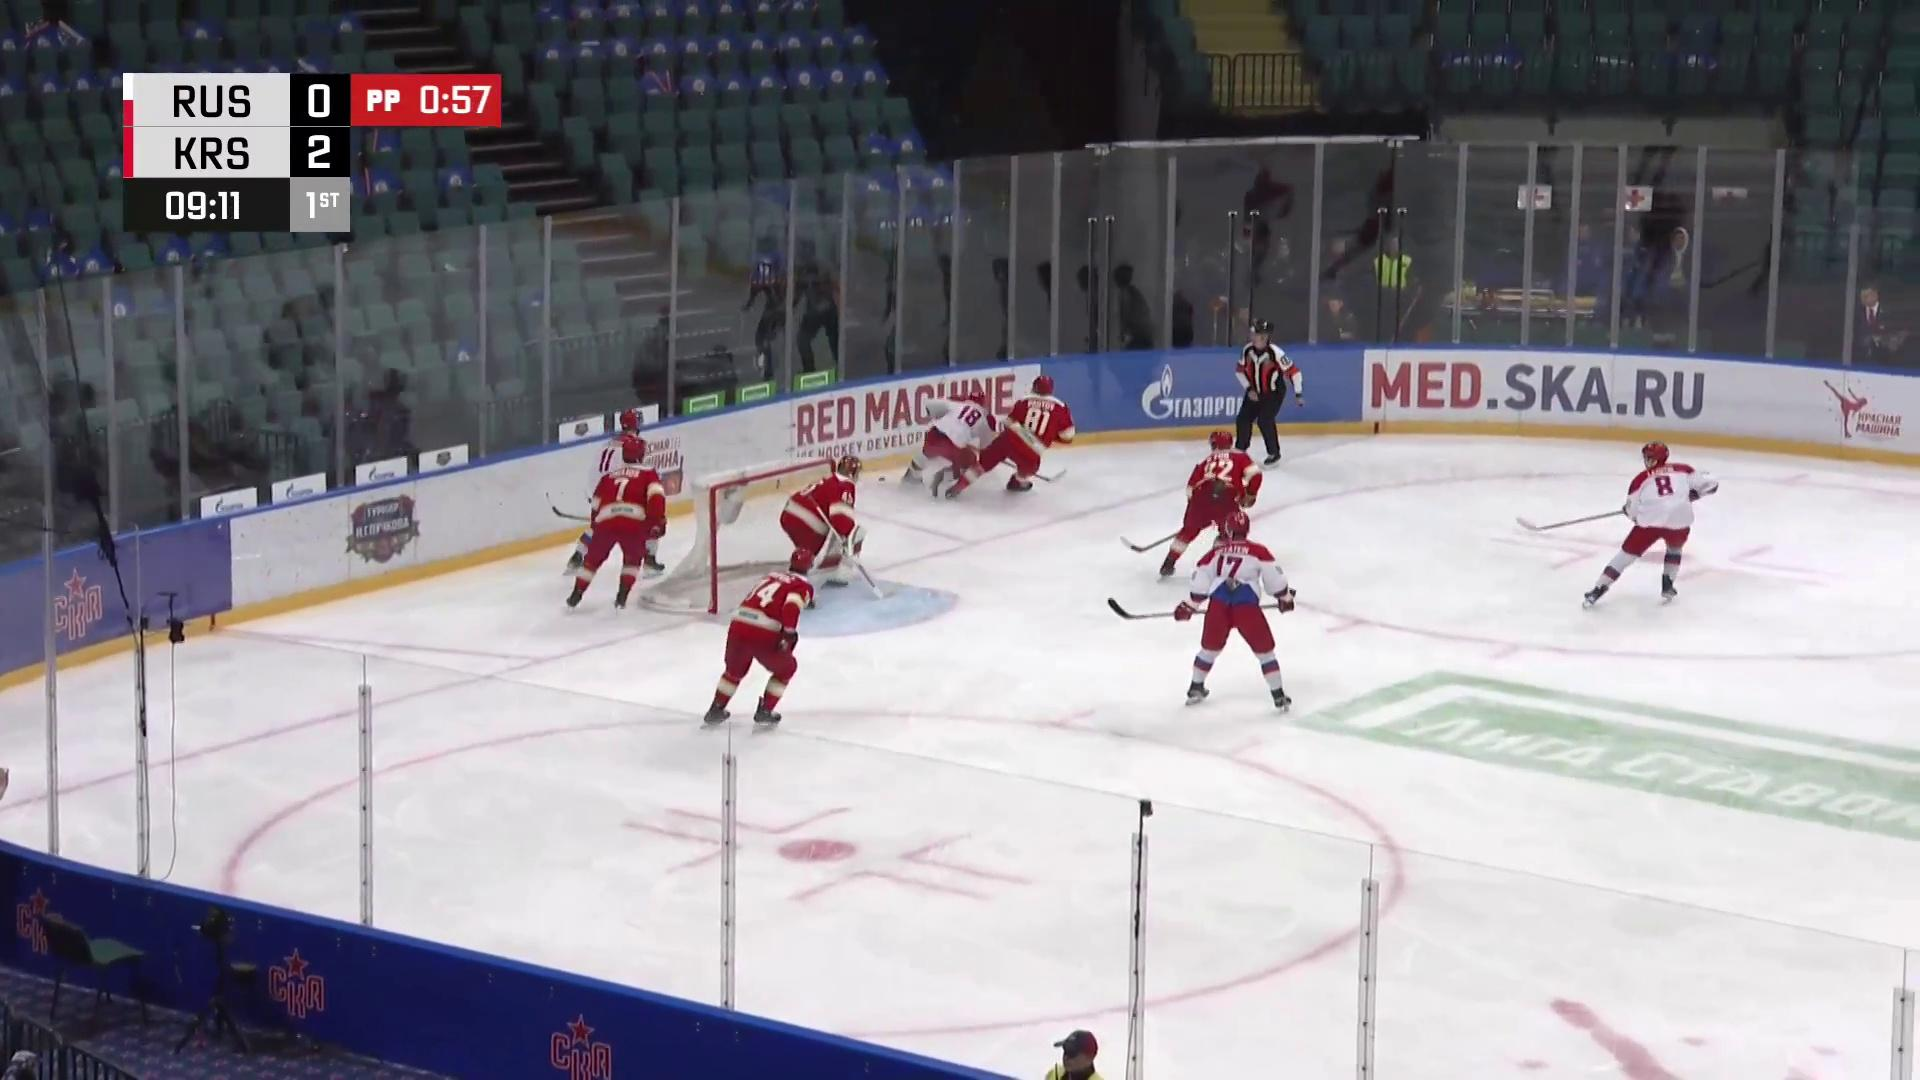ball: (877, 475, 887, 484)
